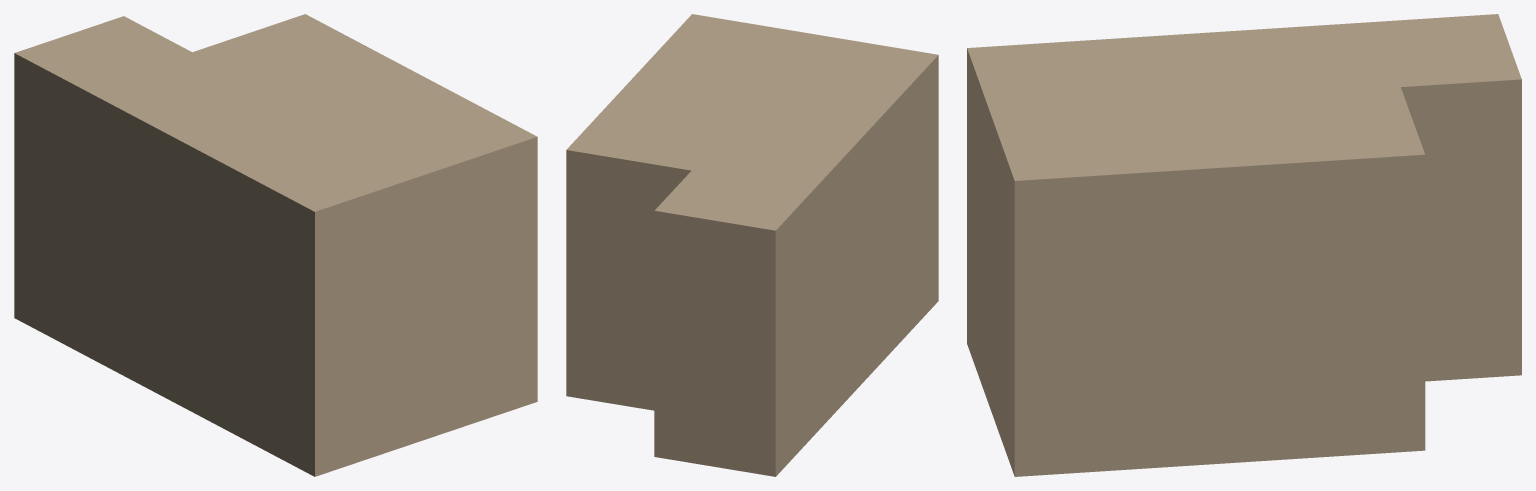
File: bld_107639468.dae
3 views of the same model, side by side, from view 1: azimuth 30°, elevation 25°; view 2: azimuth 150°, elevation 25°; view 3: azimuth 270°, elevation 25° (orthographic). The views are drawn at different scales.
Visible parts, largest first — view 1: bld_107639468; view 2: bld_107639468; view 3: bld_107639468.
Part boxes in pixels (<box>): bld_107639468: <box>14,14,537,476</box>; bld_107639468: <box>566,14,938,476</box>; bld_107639468: <box>967,14,1521,476</box>.
Size of the model in its own units: 9.68 by 13.59 by 8.
